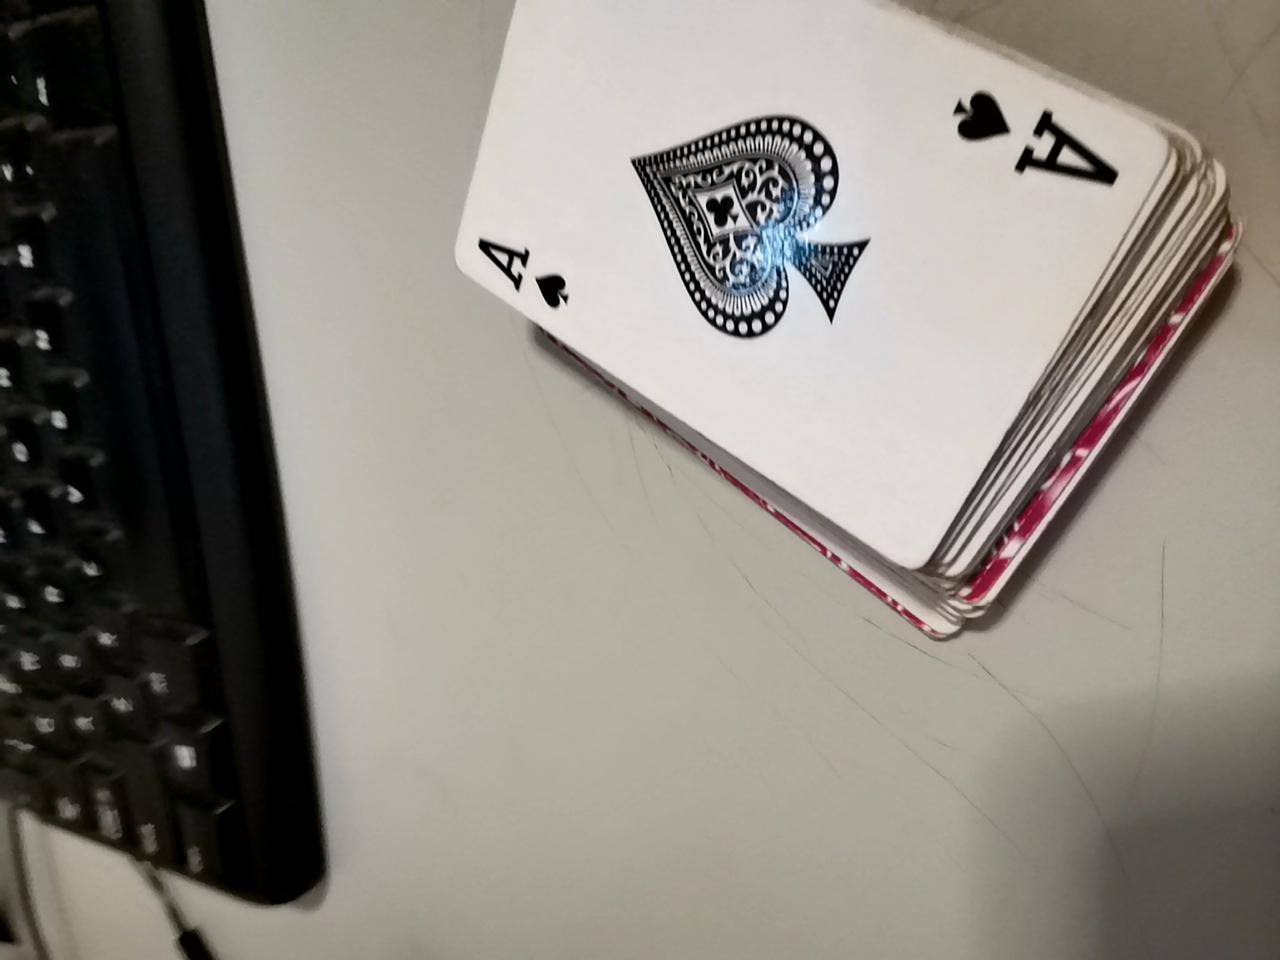ht a: (459, 0, 1163, 607)
